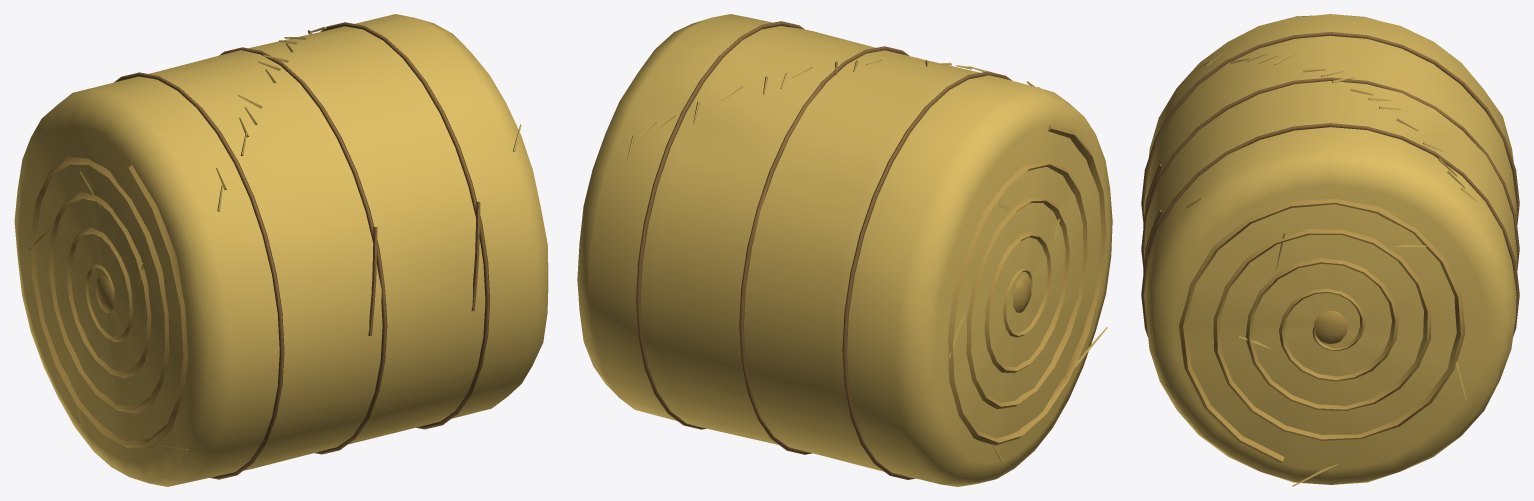
The model's file is hayBale.glb.
3 renders of one model, left to right at view 1: azimuth 30°, elevation 25°; view 2: azimuth 150°, elevation 25°; view 3: azimuth 270°, elevation 25°, orthographic. The views are drawn at different scales.
Visible parts, largest first — view 1: hayBale; view 2: hayBale; view 3: hayBale.
Boxes of the visible parts, x1=… form: hayBale: x1=14, y1=14, x2=548, y2=486; hayBale: x1=577, y1=14, x2=1112, y2=486; hayBale: x1=1141, y1=14, x2=1519, y2=486.
Size of the model in its own units: 1.23 by 1.23 by 1.23.
